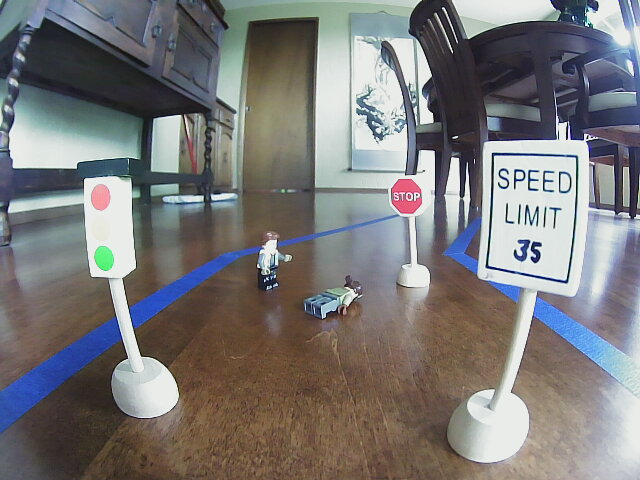SpeedLimit35: (481, 137, 586, 294)
StopSign: (386, 175, 431, 220)
TrafficLight: (74, 155, 148, 280)
person: (244, 219, 294, 297), (301, 274, 375, 322)
